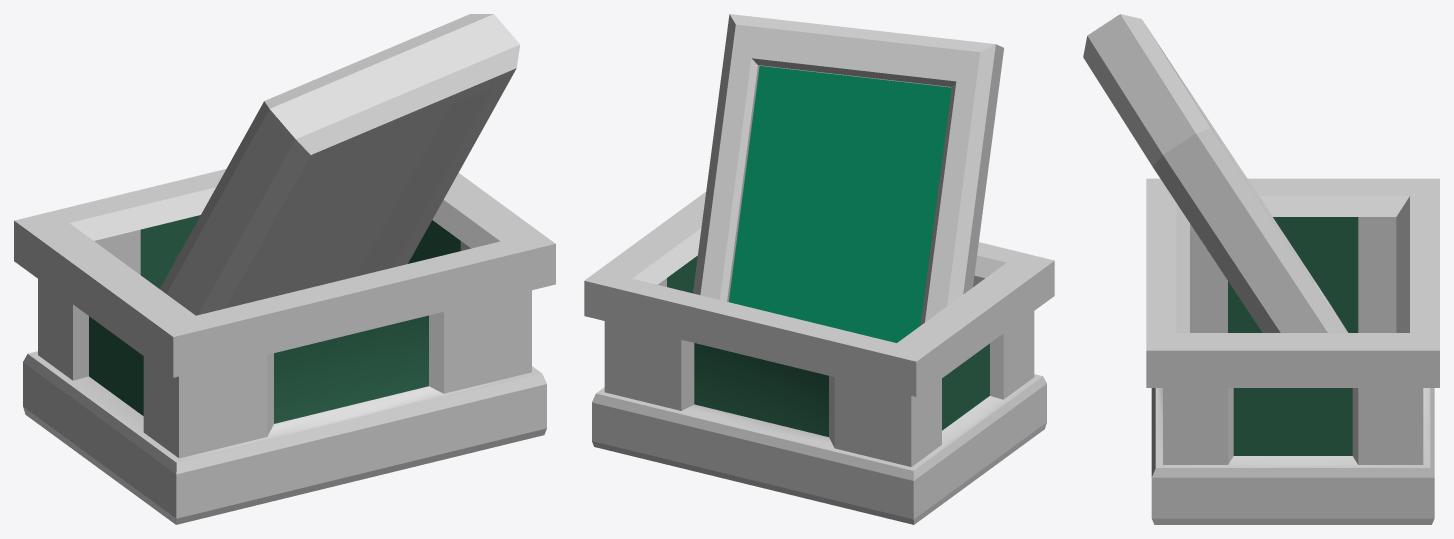
Rendered from Destroyed_big_chest.fbx.
3 renders of one model, left to right at view 1: azimuth 30°, elevation 25°; view 2: azimuth 150°, elevation 25°; view 3: azimuth 270°, elevation 25°, orthographic. The views are drawn at different scales.
Parts seen in each view (by area): view 1: polySurface2445, polySurface2446; view 2: polySurface2445, polySurface2446; view 3: polySurface2445, polySurface2446.
Boxes of the visible parts, left/top/right/bottom form: polySurface2445: left=14, top=169, right=555, bottom=524; polySurface2446: left=160, top=14, right=520, bottom=315; polySurface2445: left=584, top=191, right=1054, bottom=524; polySurface2446: left=693, top=14, right=1004, bottom=342; polySurface2445: left=1146, top=178, right=1439, bottom=524; polySurface2446: left=1083, top=14, right=1348, bottom=332.
Size of the model in its own units: 1.67 by 1.72 by 1.46.
